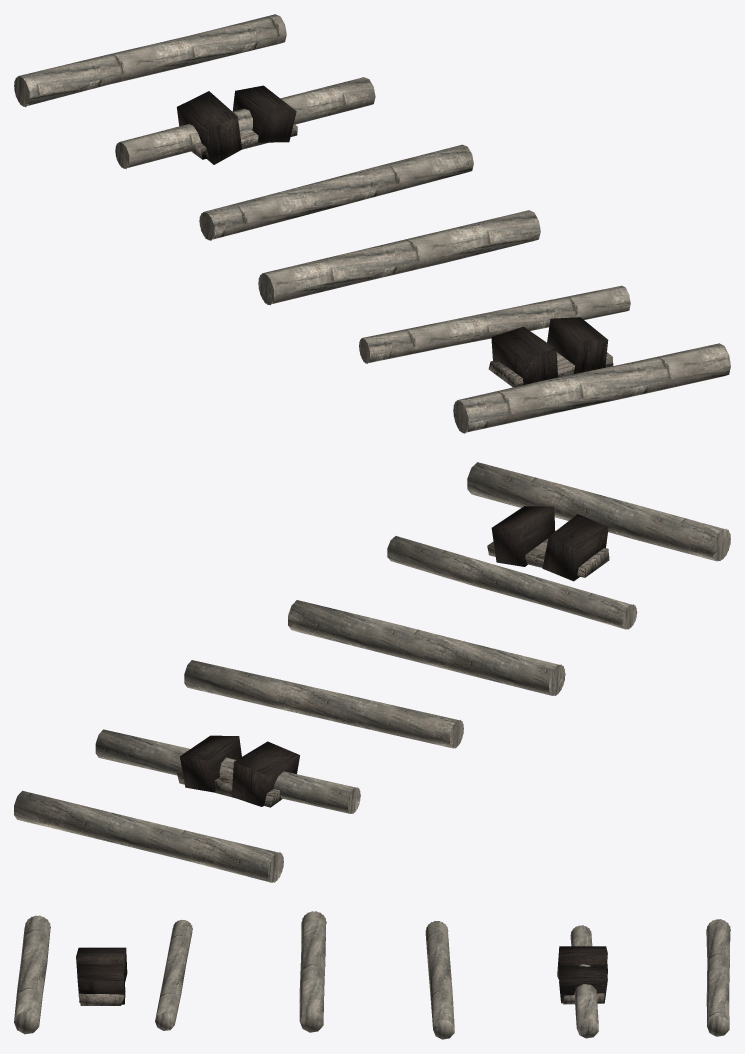
The model's file is kit_sf_roller_run_p.glb.
3 views of the same model, one above another, from view 1: azimuth 30°, elevation 25°; view 2: azimuth 150°, elevation 25°; view 3: azimuth 270°, elevation 25° (orthographic). The views are drawn at different scales.
Visible parts, largest first — view 1: kit_sf_roller_run_p; view 2: kit_sf_roller_run_p; view 3: kit_sf_roller_run_p.
Boxes of the visible parts, box(x1,y1,x2,y2) form: kit_sf_roller_run_p: box(14, 14, 730, 433); kit_sf_roller_run_p: box(14, 462, 730, 882); kit_sf_roller_run_p: box(14, 911, 730, 1039).
Size of the model in its own units: 1.83 by 0.2648 by 5.21.
1 material, 1 textured.
